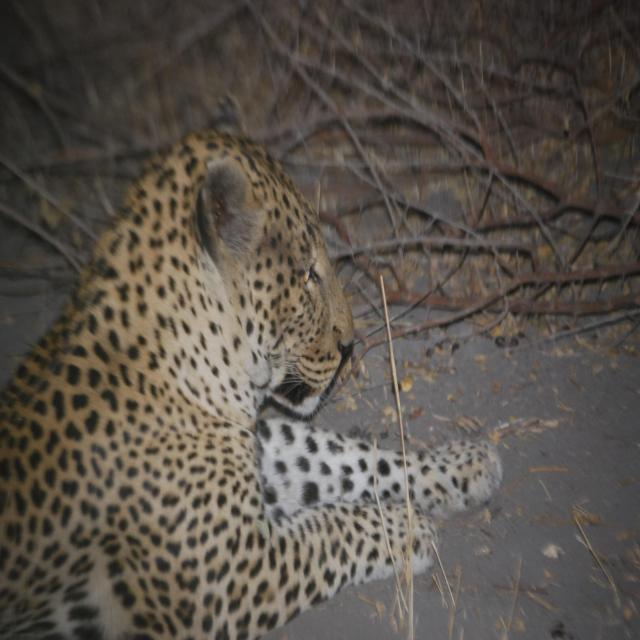Leopard: (4, 138, 513, 640)
